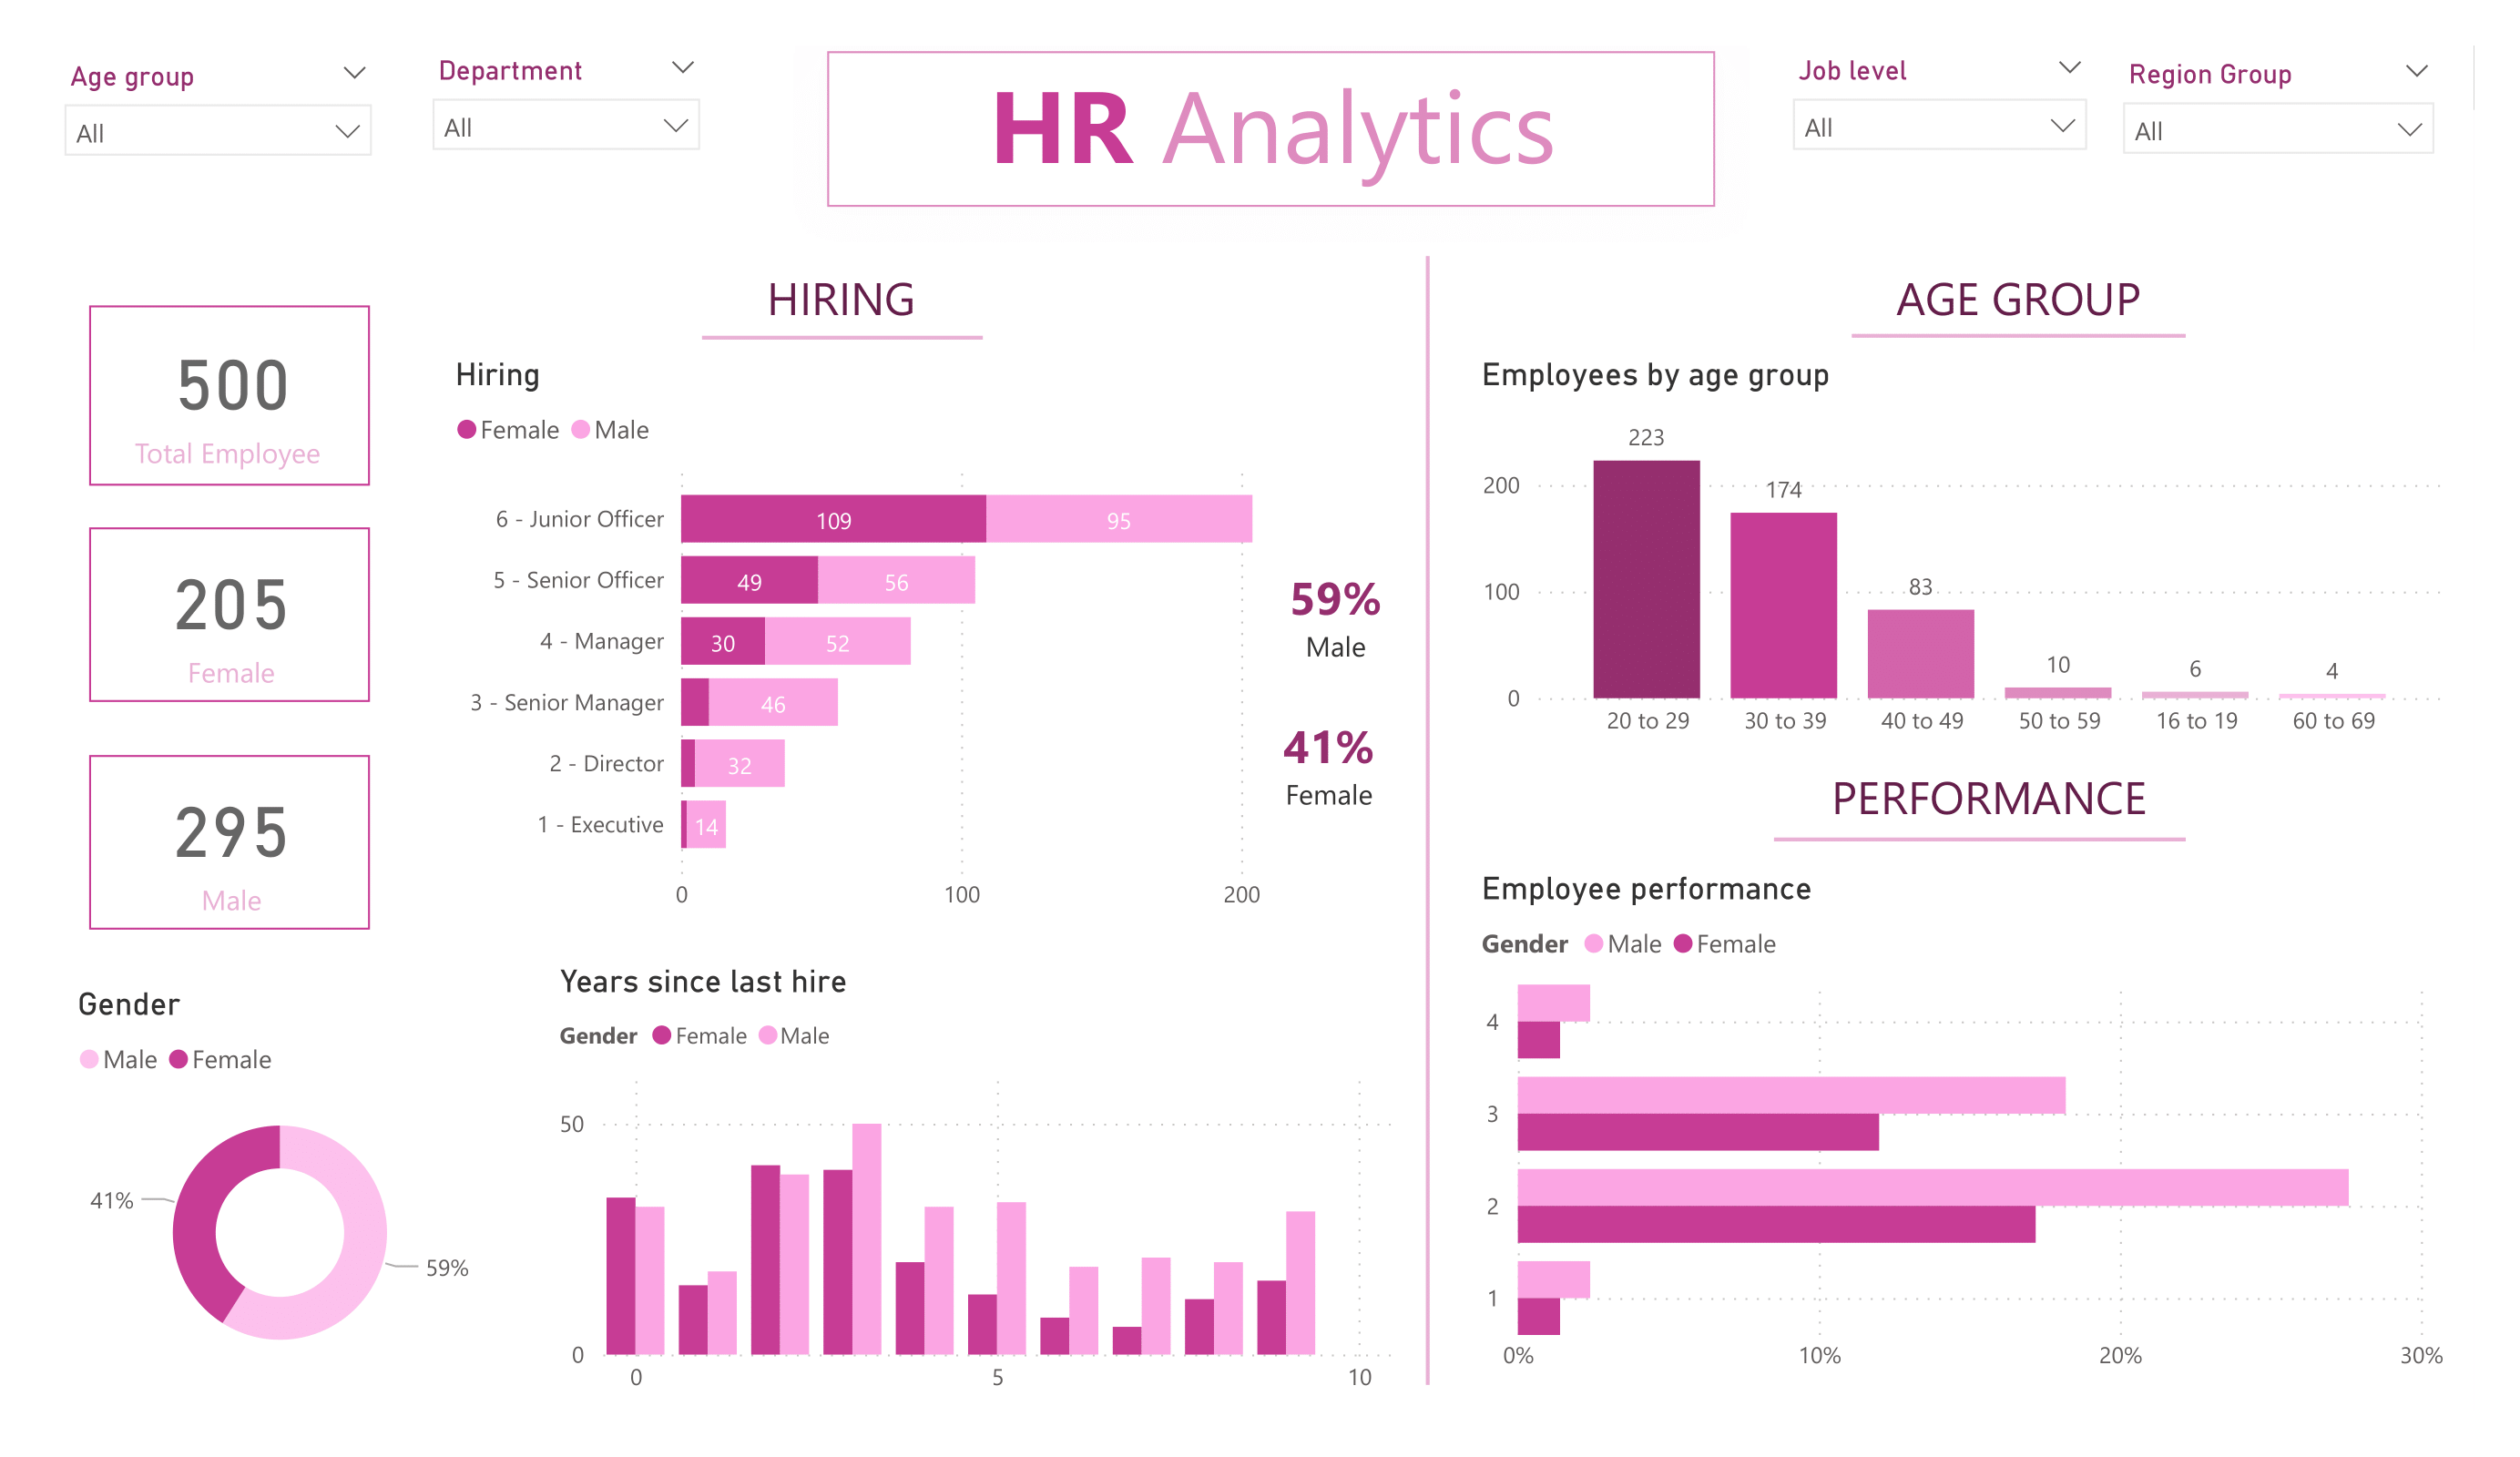

This screenshot's page, from the dashboard's own definition file:
{"tool":"powerbi","page":{"name":"Page 1","canvas":[1280,720],"ordinal":0},"visuals":[{"type":"donutChart","title":"Gender ","fields":{"Category":["Pharma Group AG.Gender"],"Y":["CountNonNull(Pharma Group AG.Gender)"]},"box":[12.3,495.4,223.1,213.8],"z":0},{"type":"card","fields":{"Values":["CountNonNull(Pharma Group AG.Gender)"]},"box":[23.1,253.8,147.7,92.3],"z":1000},{"type":"card","fields":{"Values":["CountNonNull(Pharma Group AG.Gender)"]},"box":[23.1,373.8,147.7,92.3],"z":2000},{"type":"card","fields":{"Values":["CountNonNull(Pharma Group AG.Employee ID)"]},"box":[23.1,136.9,147.7,95.4],"z":3000},{"type":"clusteredColumnChart","title":"Employees  by age group","fields":{"Y":["CountNonNull(Pharma Group AG.Gender)"],"Category":["Pharma Group AG.Age group"]},"box":[752.3,163.1,516.9,210.8],"z":4000},{"type":"slicer","fields":{"Values":["Pharma Group AG.Last Department in FY20"]},"box":[193.8,0,161.5,69.2],"z":5000},{"type":"slicer","fields":{"Values":["Pharma Group AG.Broad region group: nationality 1"]},"box":[1084.6,1.5,184.6,67.7],"z":6000},{"type":"slicer","fields":{"Values":["Pharma Group AG.Job Level after FY20 promotions"]},"box":[910.8,0,175.4,67.7],"z":7000},{"type":"slicer","fields":{"Values":["Pharma Group AG.Age group"]},"box":[0,3.1,181.5,66.2],"z":8000},{"type":"barChart","title":"Hiring","fields":{"Category":["Pharma Group AG.Job Level after FY20 promotions"],"Y":["CountNonNull(Pharma Group AG.Employee ID)"],"Series":["Pharma Group AG.Gender"]},"box":[210.8,163.1,503.1,303.1],"z":9000},{"type":"textbox","box":[961.5,110.8,156.9,52.3],"z":10000},{"type":"textbox","box":[350.8,110.8,136.9,52.3],"z":11000},{"type":"clusteredBarChart","title":" Employee performance","fields":{"Category":["Pharma.FY20 Performance Rating"],"Series":["Pharma.Gender"],"Y":["Divide(CountNonNull(Pharma.Employee ID), ScopedEval(CountNonNull(Pharma.Employee ID), []))"]},"box":[752.3,433.8,516.9,275.4],"z":12000},{"type":"textbox","box":[906.2,373.8,236.9,49.2],"z":13000},{"type":"textbox","box":[650.8,347.7,63.1,70.8],"z":14000},{"type":"textbox","box":[646.2,269.2,67.7,70.8],"z":15000},{"type":"clusteredColumnChart","title":" Years since last hire ","fields":{"Category":["Pharma.Years since last hire"],"Series":["Pharma.Gender"],"Y":["CountNonNull(Pharma.Employee ID)"]},"box":[266.2,483.1,447.7,236.9],"z":16000},{"type":"textbox","box":[412.3,3.1,467.7,81.5],"z":17000},{"type":"shape","box":[346.2,143.1,147.7,21.5],"z":18000},{"type":"shape","box":[952.3,147.7,175.4,10.8],"z":19000},{"type":"shape","box":[910.8,392.3,216.9,52.3],"z":20000},{"type":"shape","box":[683.1,110.8,90.8,595.4],"z":21000},{"type":"qnaVisual","box":[193.8,69.2,161.5,150],"z":21001}]}

Visuals, with their boxes in screenshot pixels (x1, y1, x2, y2):
"Gender " donutChart: region(69, 985, 492, 1391)
card - CountNonNull(Pharma Group AG.Gender): region(89, 527, 370, 702)
card - CountNonNull(Pharma Group AG.Gender): region(89, 755, 370, 930)
card - CountNonNull(Pharma Group AG.Employee ID): region(89, 305, 370, 486)
"Employees  by age group" clusteredColumnChart: region(1473, 355, 2454, 755)
slicer - Pharma Group AG.Last Department in FY20: region(413, 46, 719, 177)
slicer - Pharma Group AG.Broad region group: nationality 1: region(2104, 48, 2454, 177)
slicer - Pharma Group AG.Job Level after FY20 promotions: region(1774, 46, 2107, 174)
slicer - Pharma Group AG.Age group: region(46, 51, 390, 177)
"Hiring" barChart: region(445, 355, 1400, 930)
textbox: region(1870, 256, 2168, 355)
textbox: region(711, 256, 971, 355)
" Employee performance" clusteredBarChart: region(1473, 869, 2454, 1391)
textbox: region(1765, 755, 2215, 848)
textbox: region(1280, 705, 1400, 840)
textbox: region(1271, 556, 1400, 690)
" Years since last hire " clusteredColumnChart: region(551, 962, 1400, 1411)
textbox: region(828, 51, 1716, 206)
shape: region(702, 317, 983, 358)
shape: region(1852, 326, 2186, 346)
shape: region(1774, 790, 2186, 889)
shape: region(1342, 256, 1514, 1385)
qnaVisual: region(413, 177, 719, 462)
